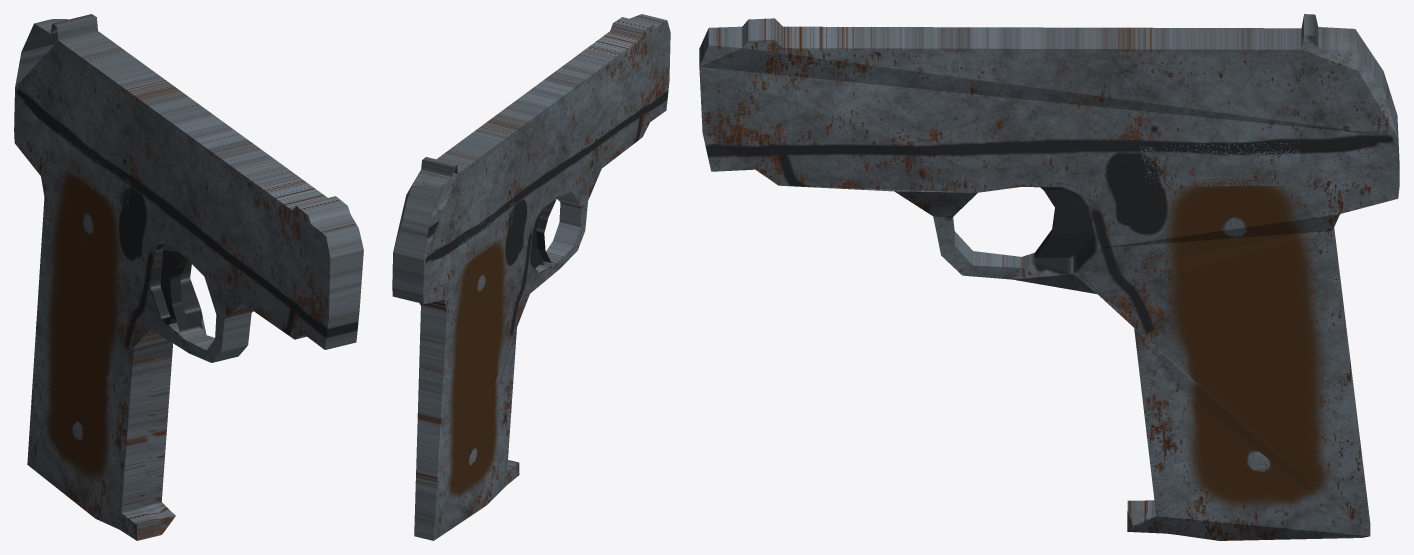
Rendered from pistol.glb.
3 views of the same model, side by side, from view 1: azimuth 30°, elevation 25°; view 2: azimuth 150°, elevation 25°; view 3: azimuth 270°, elevation 25° (orthographic). The views are drawn at different scales.
Parts seen in each view (by area): view 1: Pistol; view 2: Pistol; view 3: Pistol.
Boxes of the visible parts, x1,y1,x2,y2 form: Pistol: [14, 14, 363, 540]; Pistol: [392, 14, 670, 540]; Pistol: [699, 14, 1399, 540].
Size of the model in its own units: 0.3609 by 3.87 by 4.79.
1 material, 1 textured.
